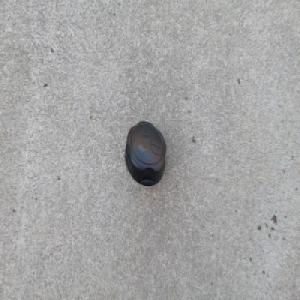FuelCap: (124, 117, 169, 189)
